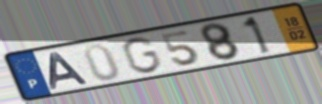0: (82, 42, 122, 82)
1: (240, 14, 274, 55)
5: (159, 29, 201, 68)
8: (199, 21, 241, 63)
A: (48, 50, 92, 91)
G: (120, 35, 165, 75)
